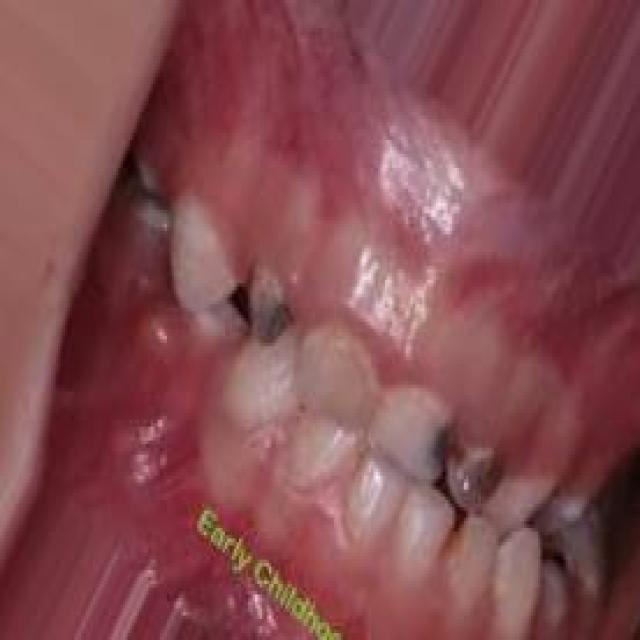caries: (240, 255, 303, 358), (450, 435, 504, 522), (421, 402, 459, 476)
